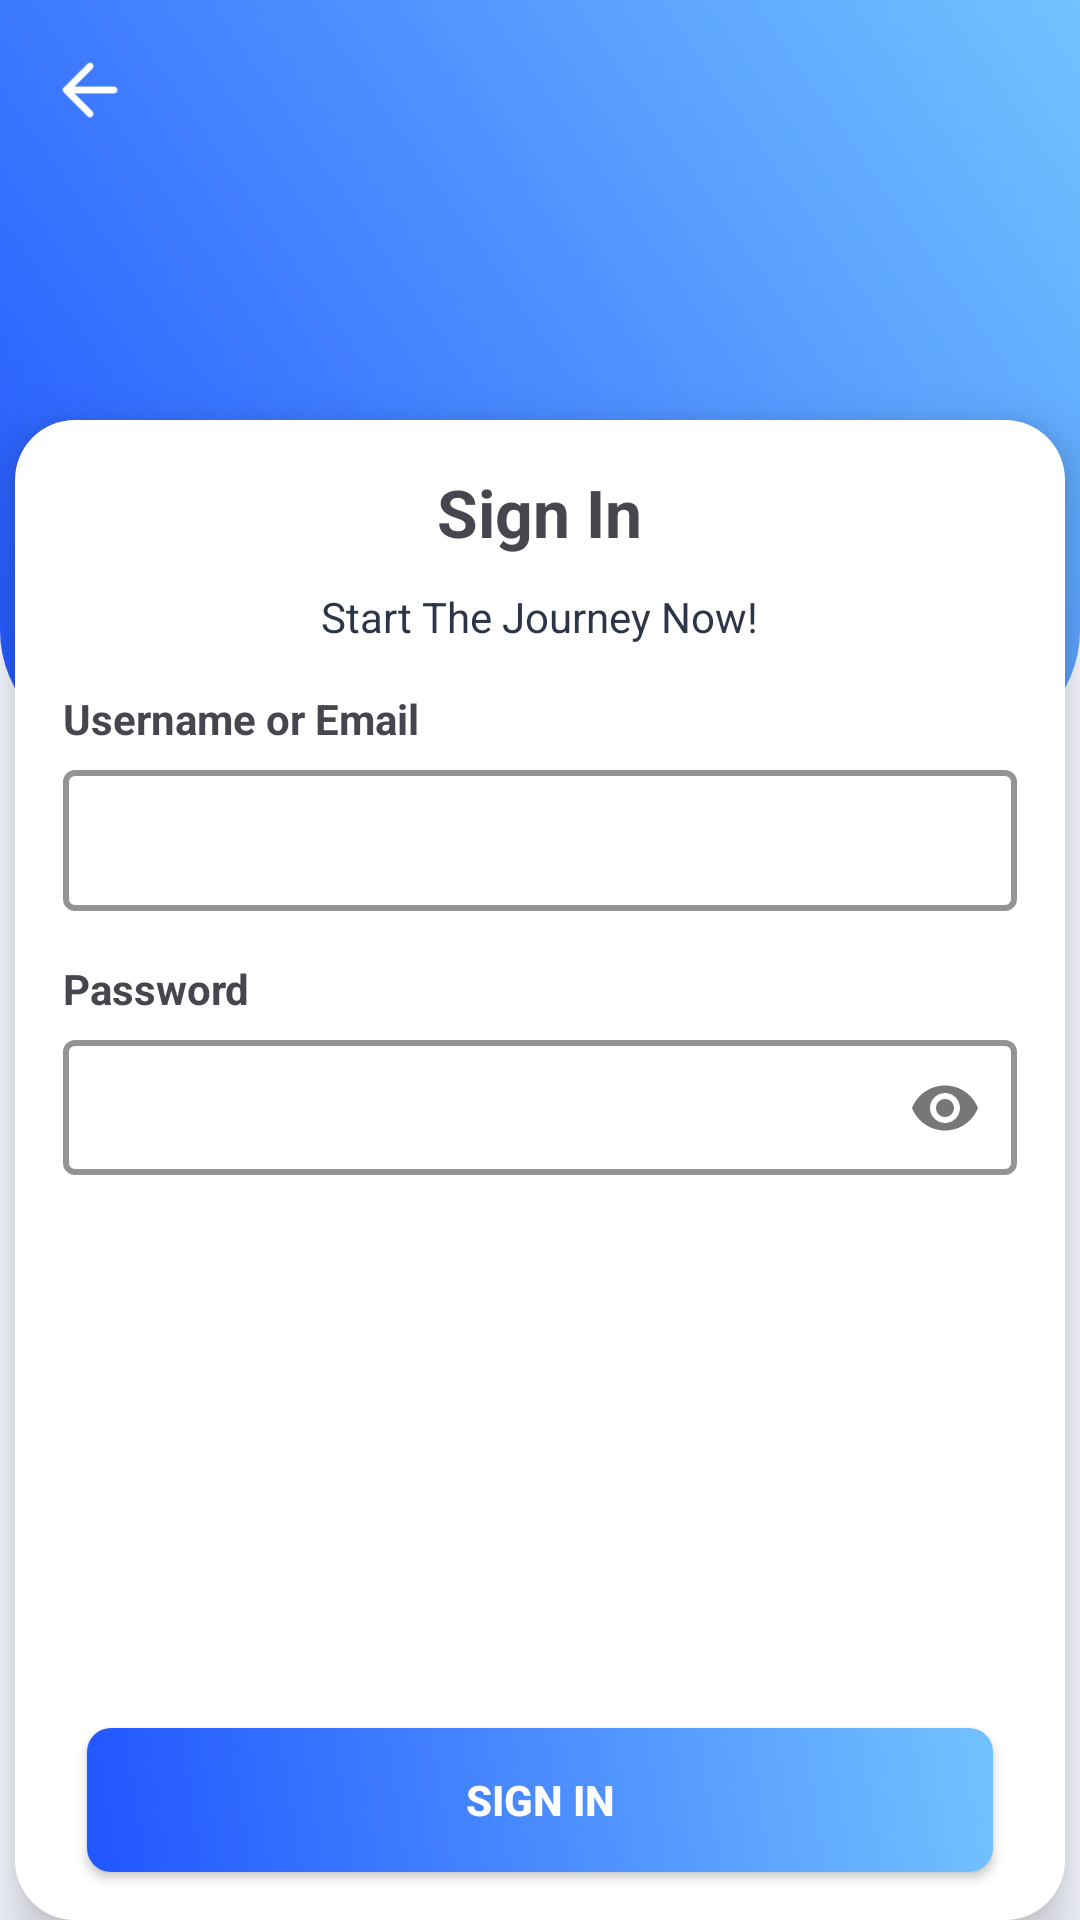

Screen size 1080w x 1920h. Icon name, then its box in pixels as {"x1": x1, "y1": y1, "x2": x2, "y2": y2}:
ICON BACK: {"x1": 62, "y1": 62, "x2": 118, "y2": 118}
